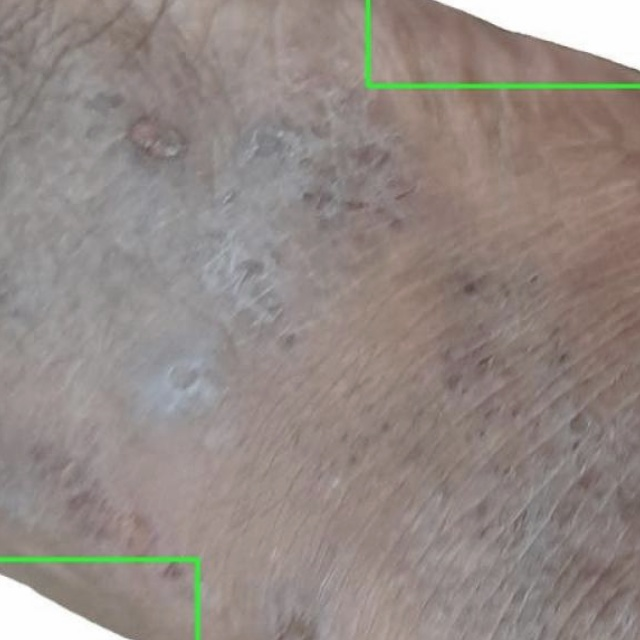Contact Dermatitis: (367, 0, 639, 86)
